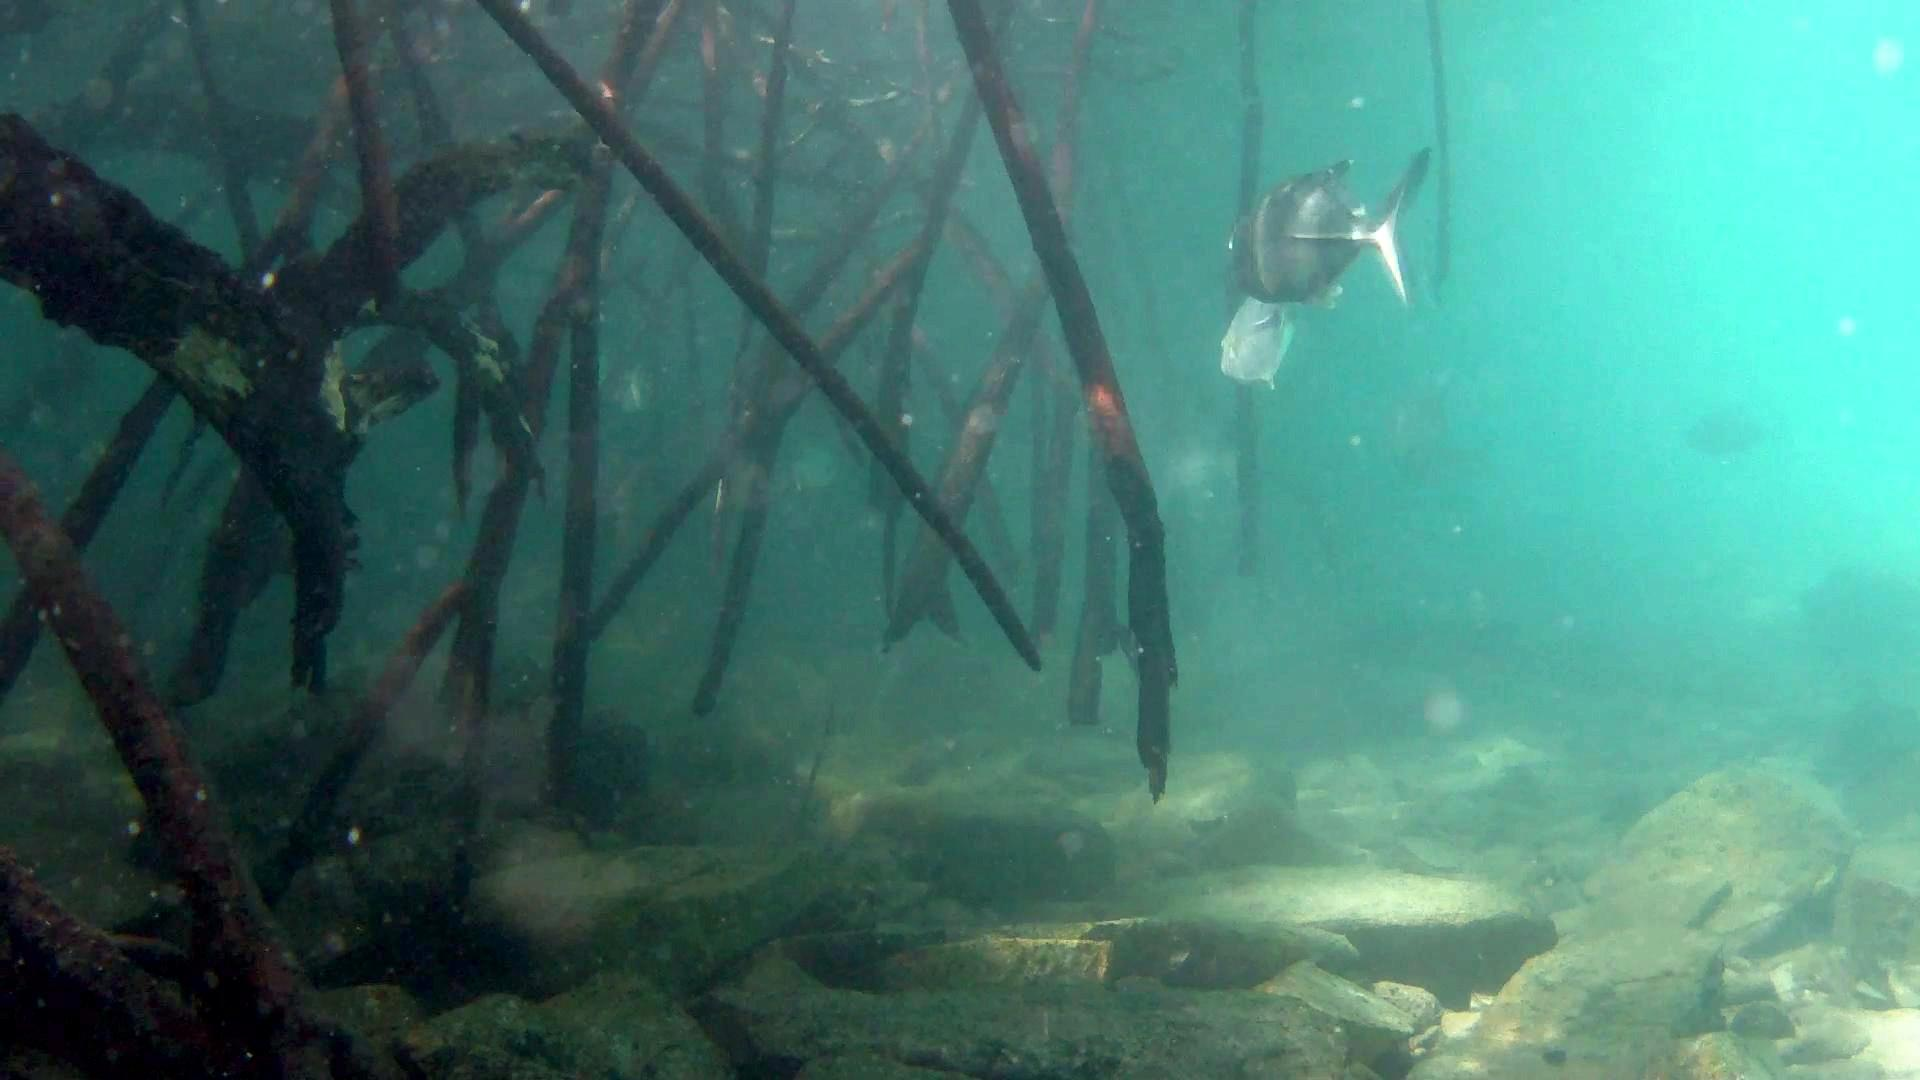caranx: (1216, 156, 1423, 319)
